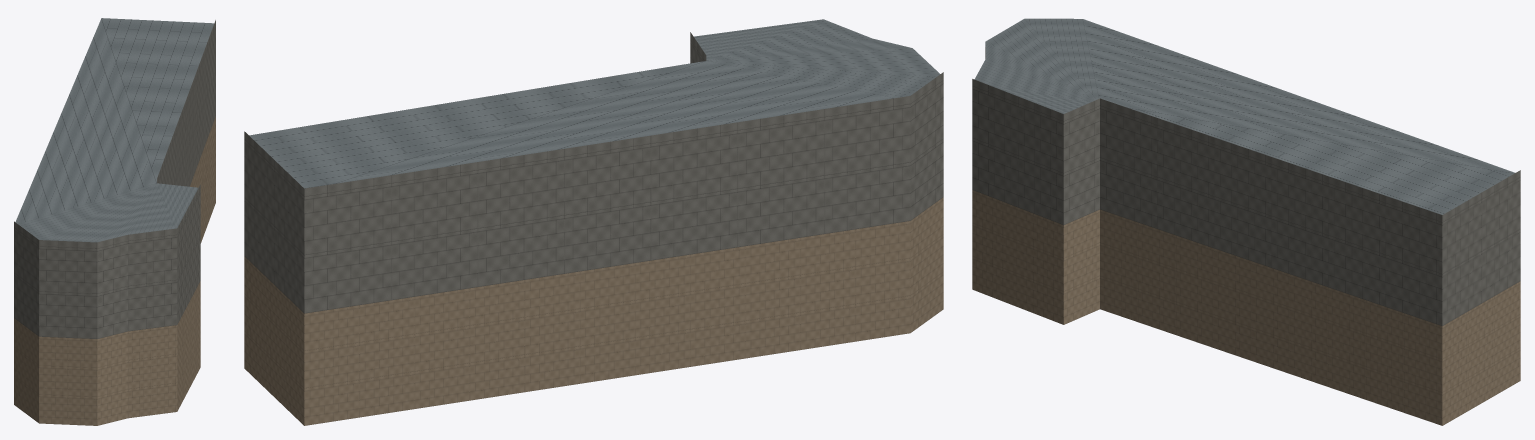
The model's file is bld_c-4_25_608.gltf.
3 renders of one model, left to right at view 1: azimuth 30°, elevation 25°; view 2: azimuth 150°, elevation 25°; view 3: azimuth 270°, elevation 25°, orthographic. The views are drawn at different scales.
Parts seen in each view (by area): view 1: bld_c-4_25_608; view 2: bld_c-4_25_608; view 3: bld_c-4_25_608.
Boxes of the visible parts, left/top/right/bottom form: bld_c-4_25_608: left=14, top=18, right=215, bottom=425; bld_c-4_25_608: left=244, top=19, right=943, bottom=425; bld_c-4_25_608: left=972, top=18, right=1520, bottom=425.
Bounding box in the file's own units: 22.05 × 10.78 × 25.41.
Materials: 4 (4 with a texture image).
